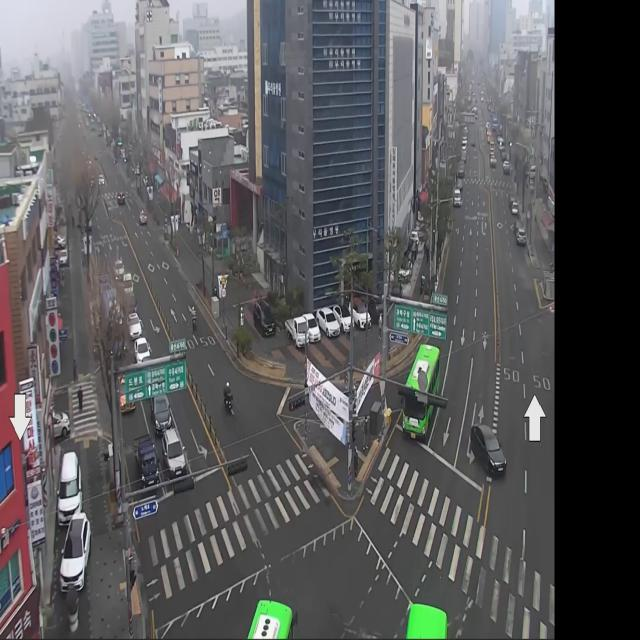bus: (223, 374, 235, 412), (190, 301, 198, 336)
car: (402, 329, 438, 454), (398, 583, 452, 640), (242, 596, 304, 640)
motorcycle: (470, 413, 514, 485), (47, 399, 85, 439), (164, 428, 190, 482), (150, 384, 174, 439), (116, 366, 136, 419), (136, 334, 155, 371), (129, 306, 145, 345), (121, 270, 140, 300), (112, 255, 126, 294), (124, 289, 138, 323), (136, 206, 150, 238), (113, 184, 128, 207), (518, 223, 531, 249), (454, 185, 465, 212), (512, 199, 522, 221), (455, 179, 464, 199), (457, 159, 467, 177), (489, 150, 498, 168), (502, 162, 510, 182), (500, 146, 508, 164), (490, 138, 497, 158), (461, 136, 469, 152)
truck: (126, 434, 162, 494)
